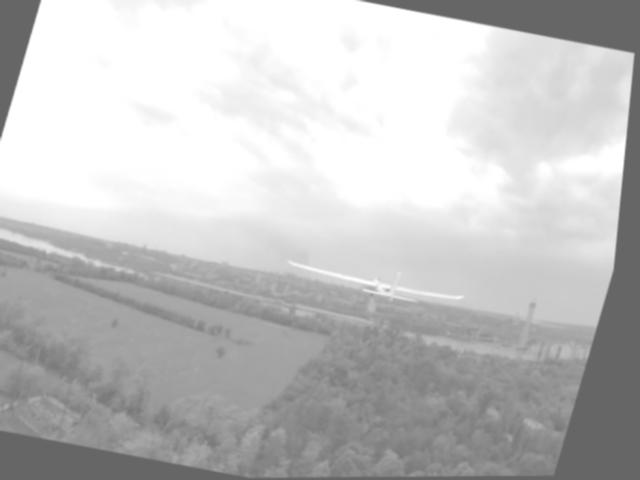hedef: (272, 242, 493, 327)
